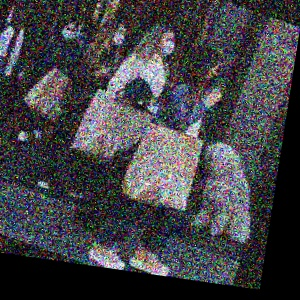zara: (103, 67, 290, 271), (67, 44, 192, 206), (36, 26, 102, 153)
